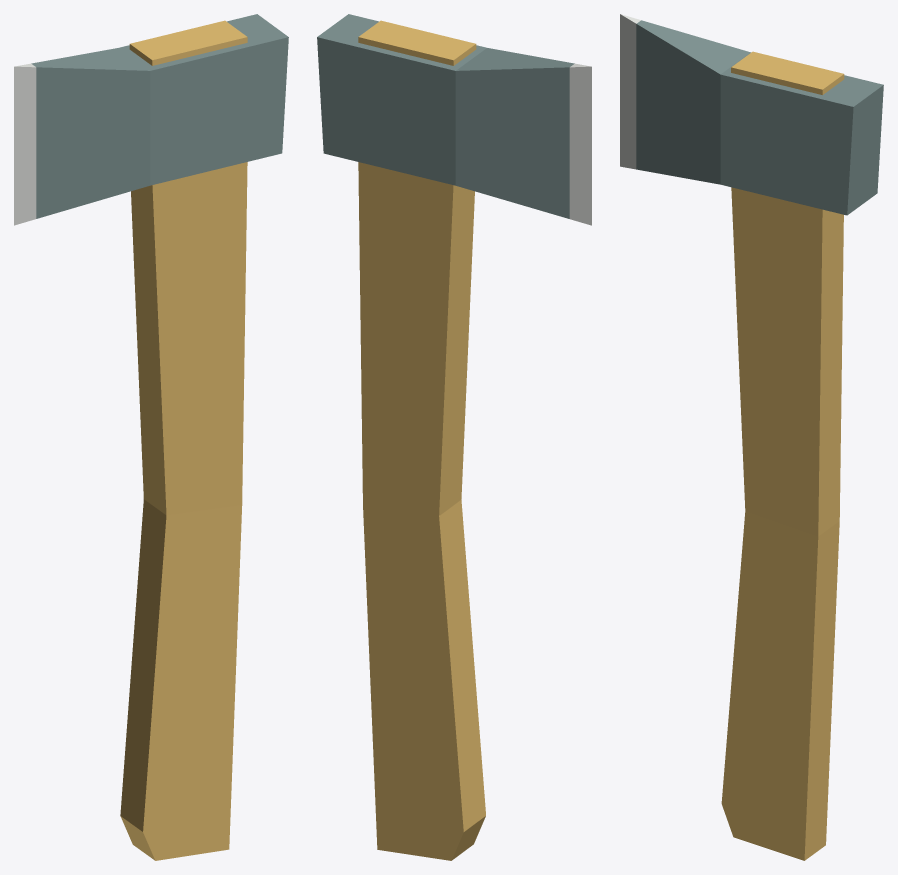
Rendered from Axe 1.fbx.
The picture shows the model from 3 angles, left to right: view 1: azimuth 30°, elevation 25°; view 2: azimuth 150°, elevation 25°; view 3: azimuth 330°, elevation 25°; orthographic projection. The views are drawn at different scales.
Visible parts, largest first — view 1: Cube, Cube.001; view 2: Cube, Cube.001; view 3: Cube, Cube.001.
Part boxes in pixels (left/top/right/bottom): Cube: left=120, top=20, right=247, bottom=860; Cube.001: left=14, top=14, right=288, bottom=225; Cube: left=358, top=20, right=485, bottom=860; Cube.001: left=317, top=14, right=591, bottom=225; Cube: left=721, top=51, right=844, bottom=860; Cube.001: left=620, top=14, right=883, bottom=215.
Size of the model in its own units: 184 by 560 by 38.88.
